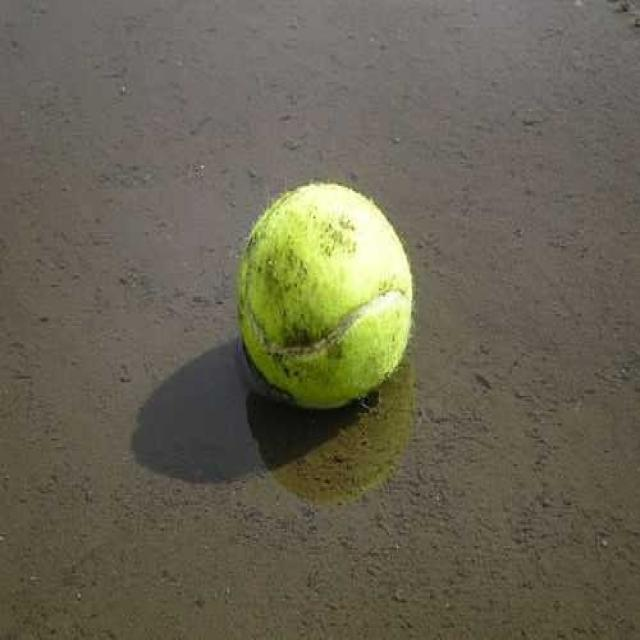Tennis_Ball: (235, 180, 412, 408)
